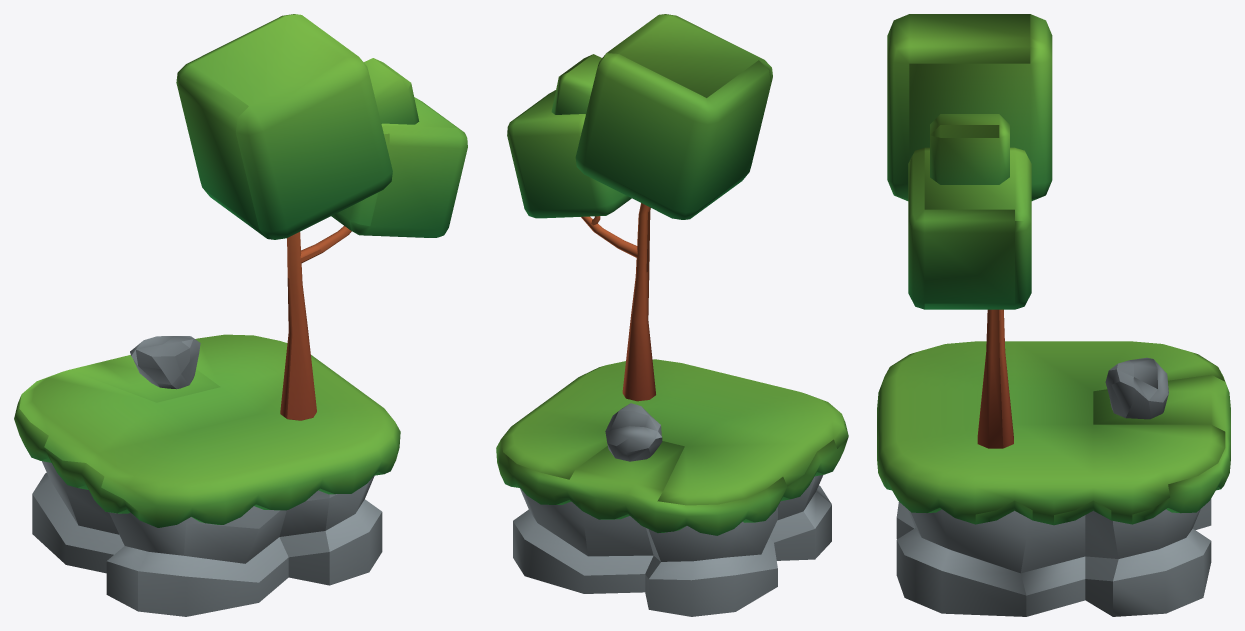
Rendered from hill_grass_tree_rock.glb.
3 renders of one model, left to right at view 1: azimuth 30°, elevation 25°; view 2: azimuth 150°, elevation 25°; view 3: azimuth 270°, elevation 25°, orthographic. The views are drawn at different scales.
Parts seen in each view (by area): view 1: Tree_2_B_Color1; view 2: Tree_2_B_Color1; view 3: Tree_2_B_Color1.
Boxes of the visible parts, bbox=[...] form: Tree_2_B_Color1: bbox=[14, 14, 467, 616]; Tree_2_B_Color1: bbox=[496, 14, 848, 616]; Tree_2_B_Color1: bbox=[877, 14, 1230, 616].
Bounding box in the file's own units: 5.33 × 7.7 × 4.5.
Materials: 3 (3 with a texture image).
